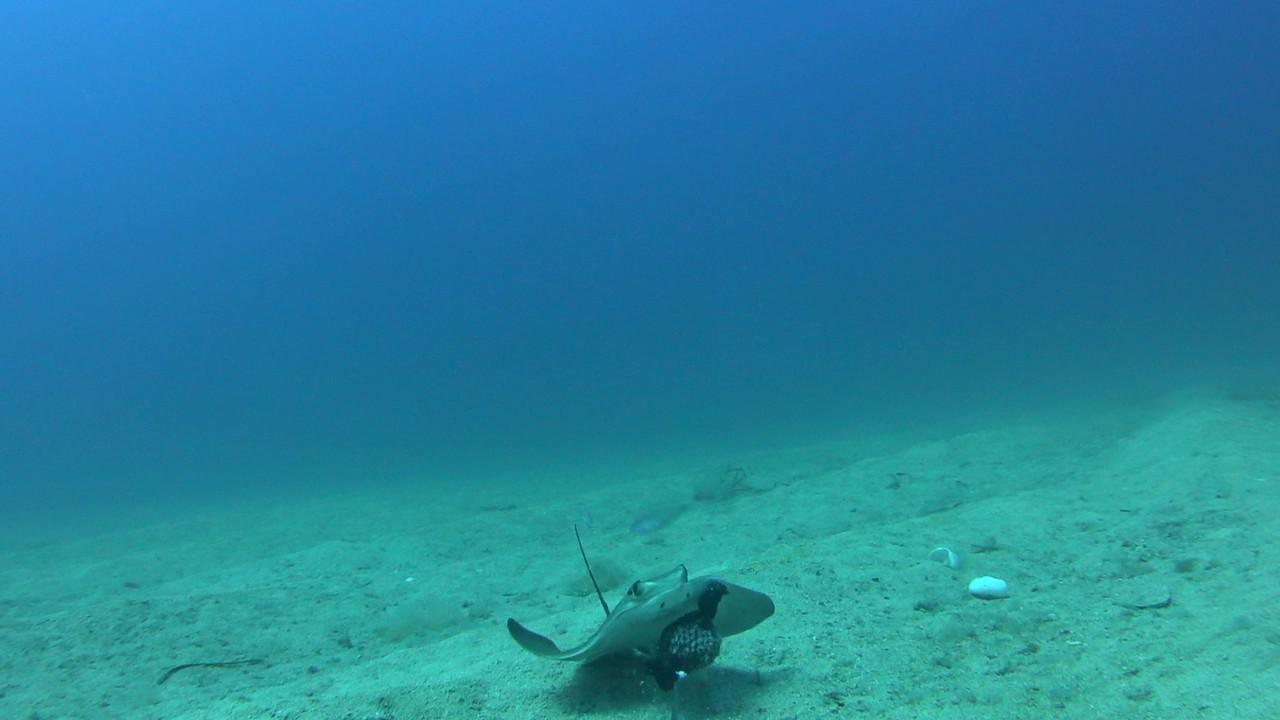myliobatis: (487, 510, 799, 685)
raor: (629, 500, 696, 538)
